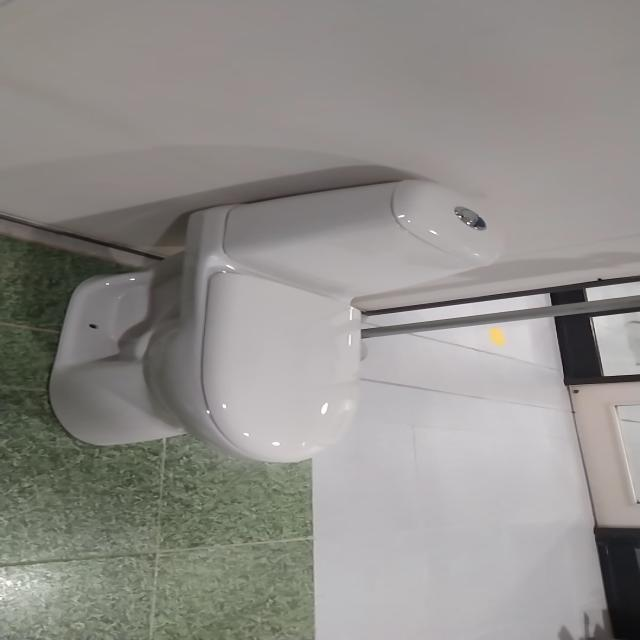toilet: (46, 177, 503, 463)
